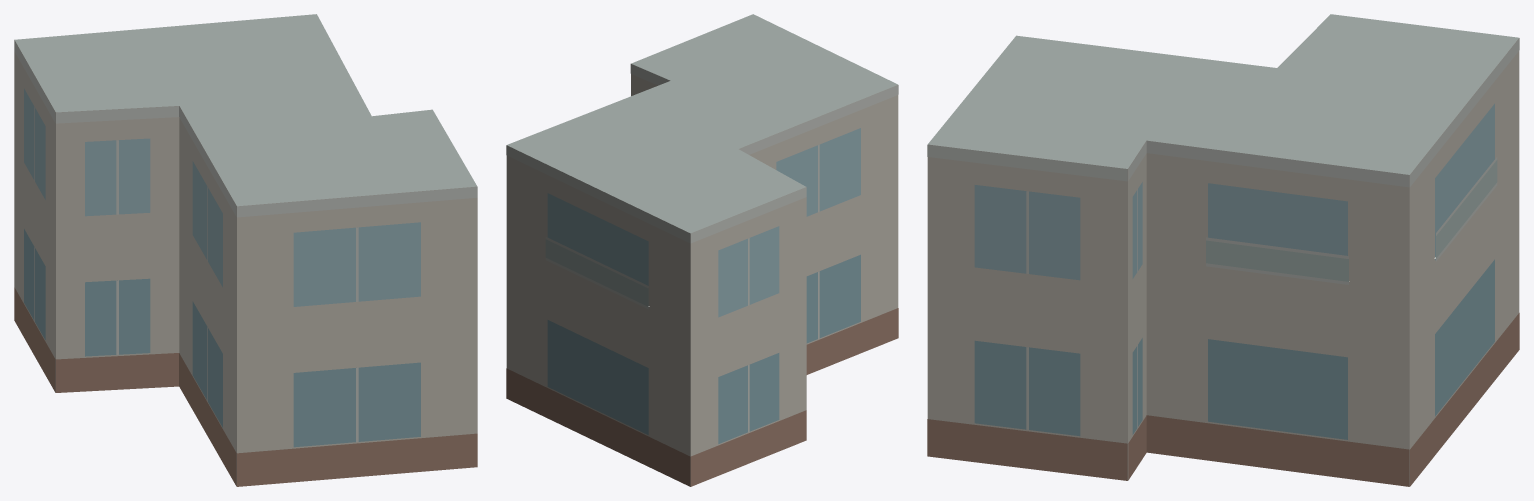
File: survey-upis-32546418.glb
The picture shows the model from 3 angles, left to right: view 1: azimuth 30°, elevation 25°; view 2: azimuth 150°, elevation 25°; view 3: azimuth 270°, elevation 25°; orthographic projection. The views are drawn at different scales.
Visible parts, largest first — view 1: survey-upis-32546418.tmp; view 2: survey-upis-32546418.tmp; view 3: survey-upis-32546418.tmp.
Boxes of the visible parts, x1,y1,x2,y2 form: survey-upis-32546418.tmp: (14, 14, 477, 486); survey-upis-32546418.tmp: (506, 14, 898, 486); survey-upis-32546418.tmp: (927, 14, 1519, 486).
Size of the model in its own units: 6.76 by 6.1 by 10.5.
